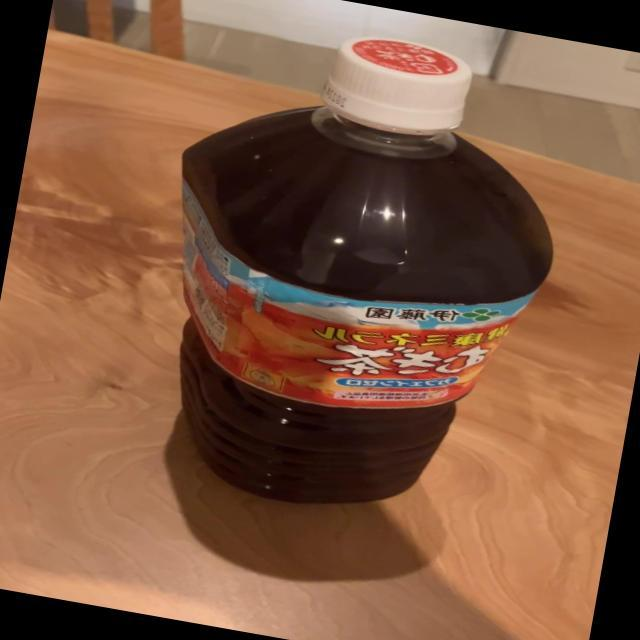good: (120, 3, 587, 542)
